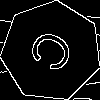C: (26, 26, 84, 81)
